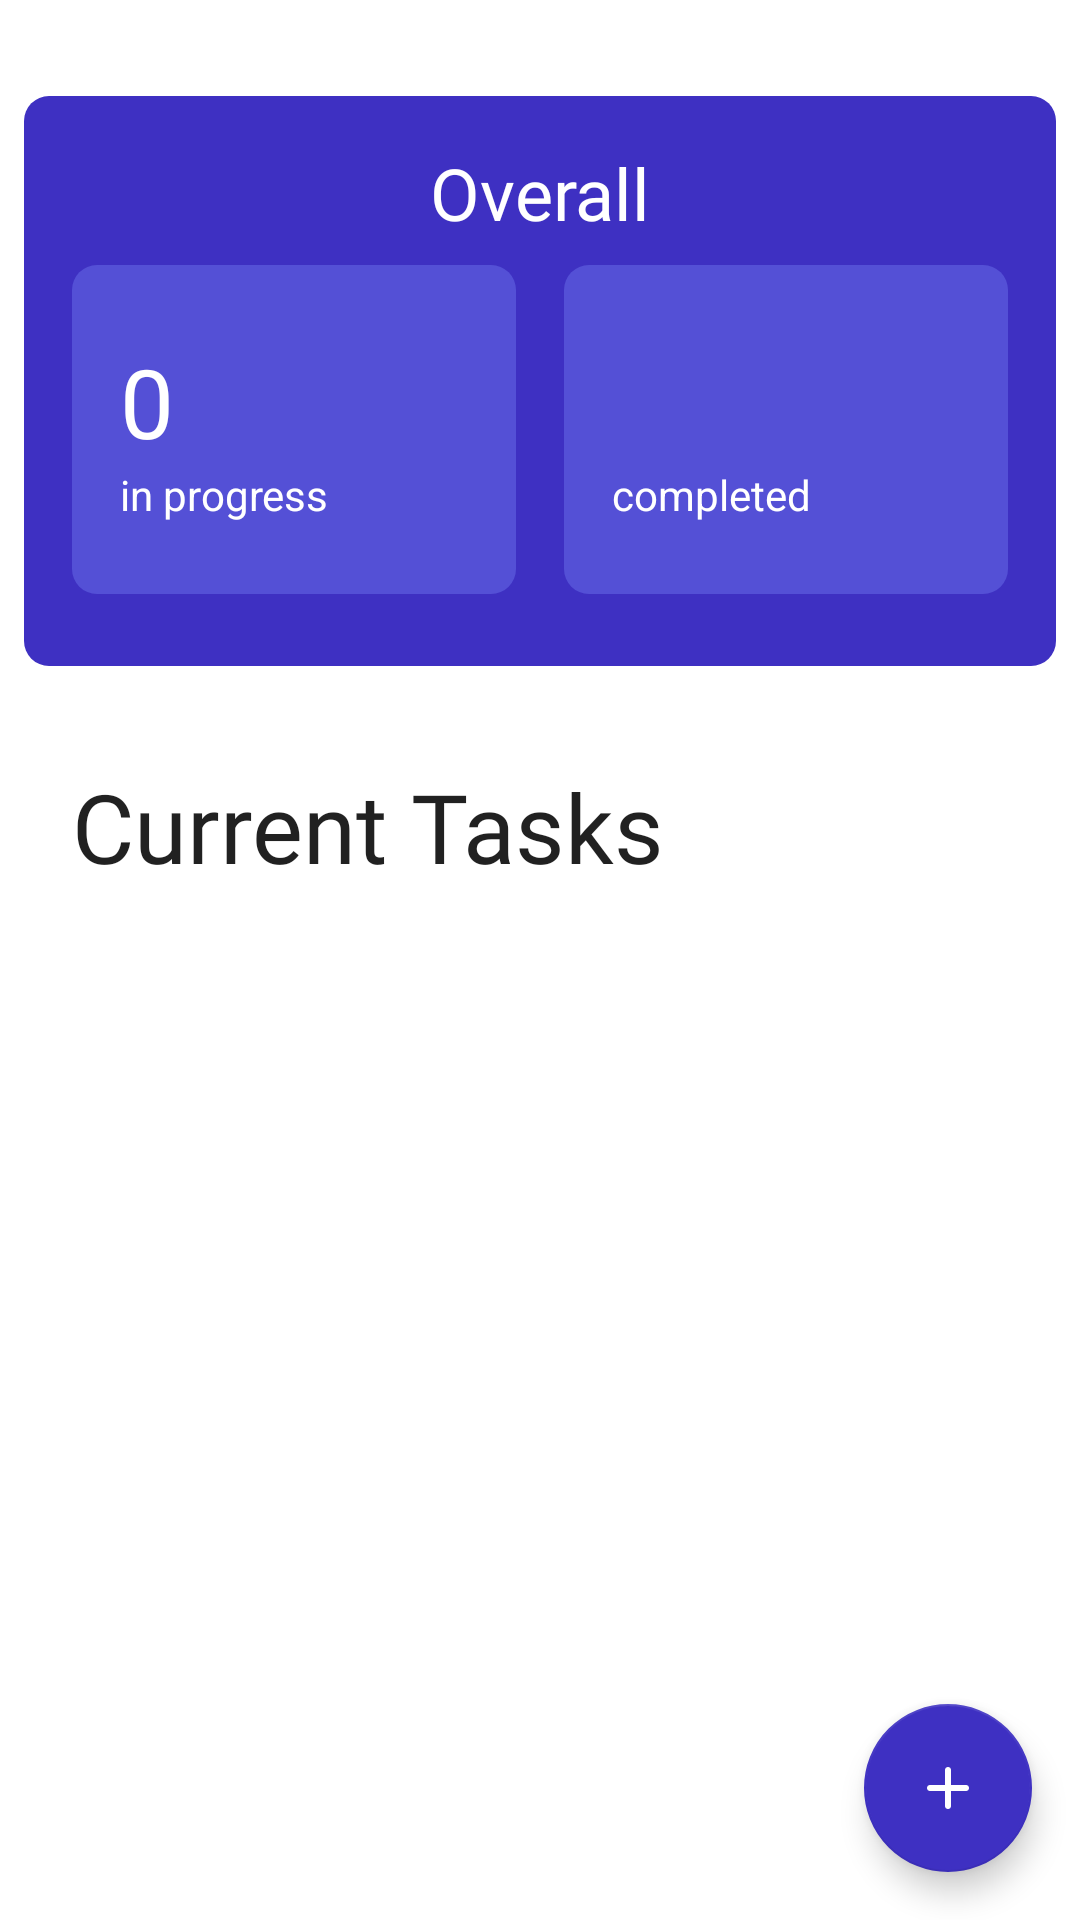

Icons on this 1080 × 1920 Android screen, each with its box as (x1, y1, x2, y2):
Add homework: (864, 1704, 1032, 1872)
